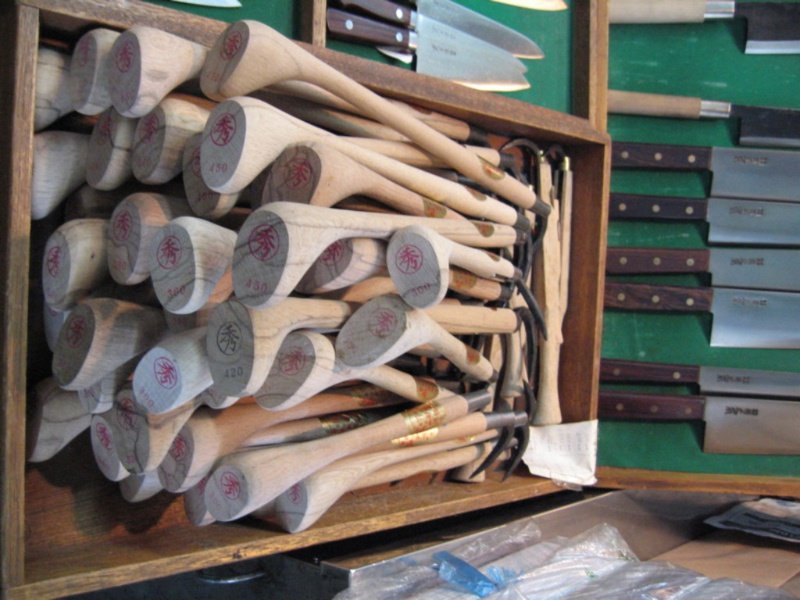knife: (597, 1, 798, 459), (322, 1, 545, 97)
